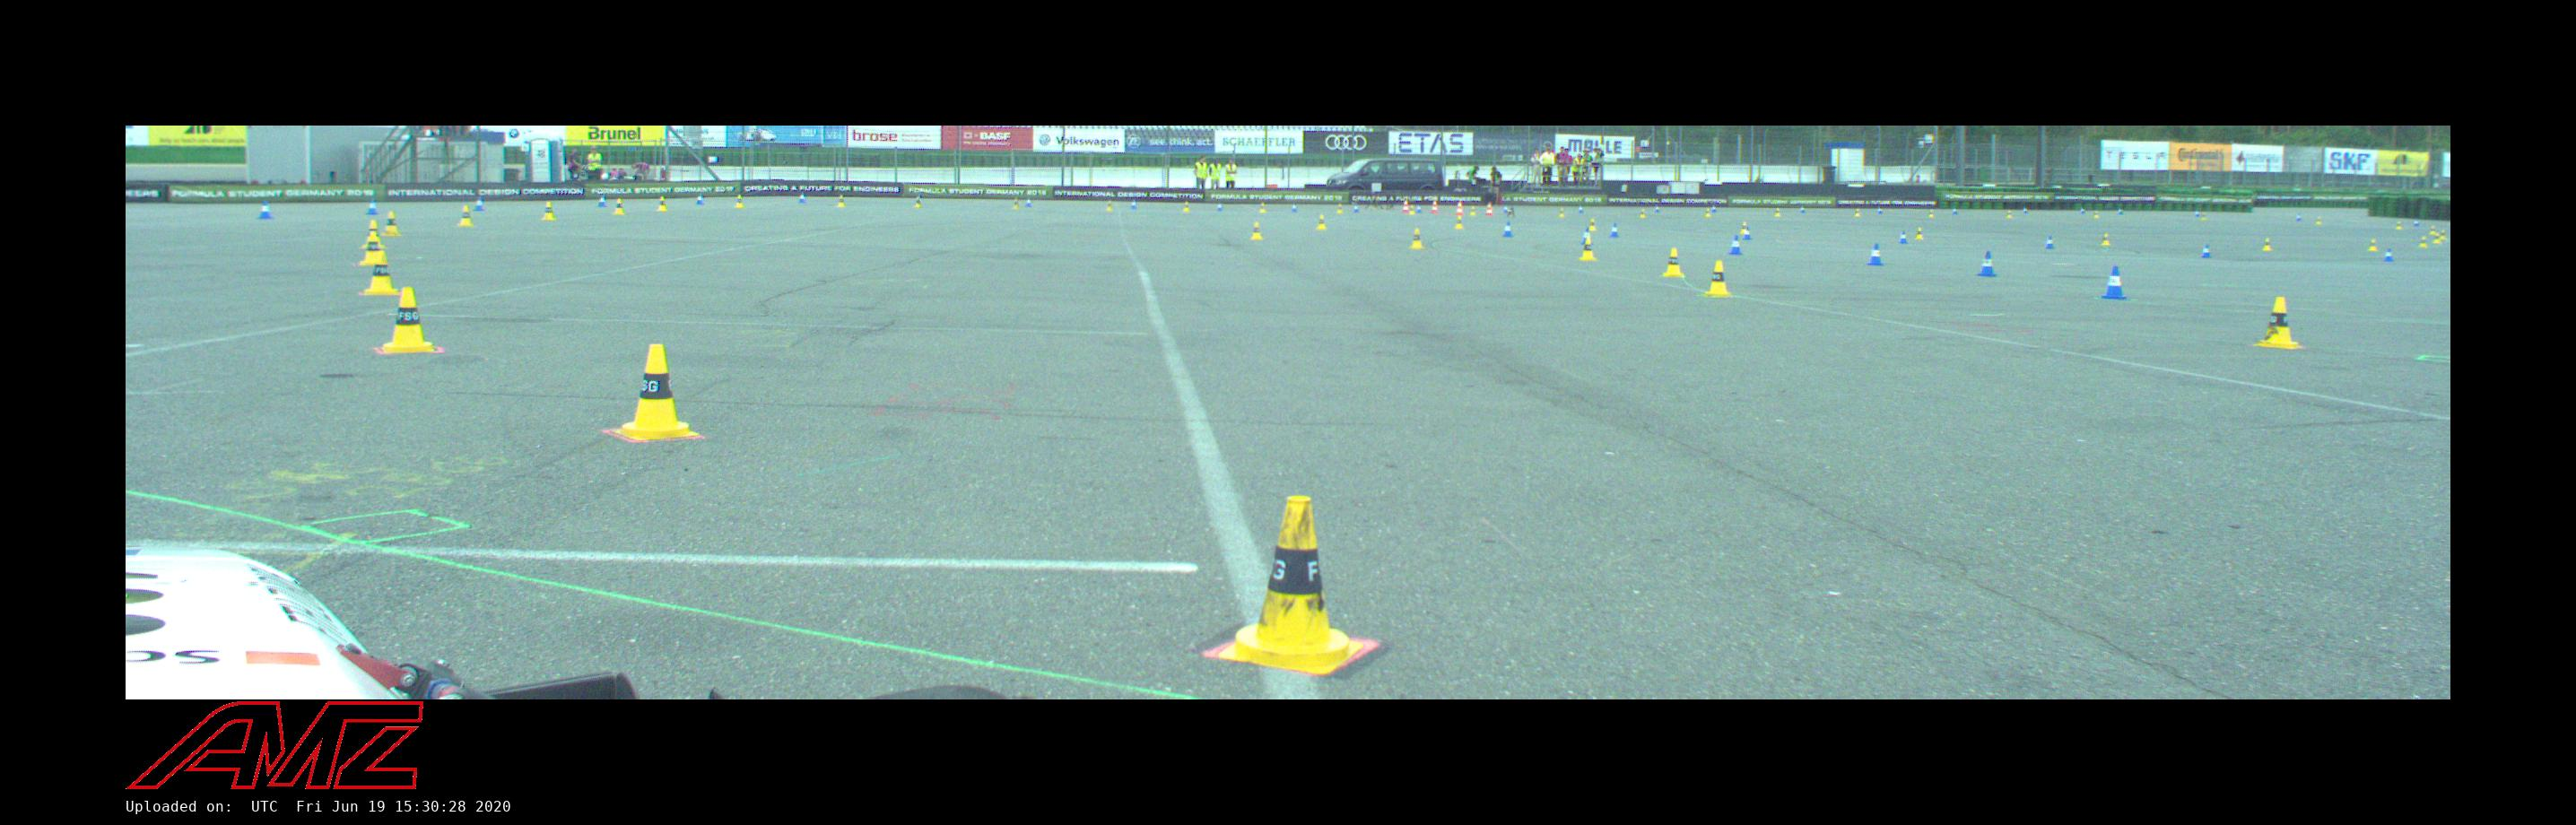blue_cone: (2101, 266, 2124, 299), (1976, 251, 1996, 276), (1868, 243, 1883, 266), (256, 200, 271, 219), (1730, 235, 1741, 253), (473, 196, 485, 210), (1502, 220, 1511, 235), (2201, 245, 2211, 258), (368, 199, 376, 214), (1580, 228, 1589, 243), (1610, 224, 1618, 237), (2045, 237, 2054, 250), (1743, 227, 1751, 240), (2384, 250, 2394, 260), (697, 192, 705, 204), (598, 196, 606, 207), (1901, 232, 1907, 243), (798, 192, 805, 202), (1130, 200, 1137, 209), (2193, 209, 2200, 217), (2022, 205, 2029, 214), (2297, 214, 2302, 222), (1027, 199, 1032, 207), (1217, 202, 1222, 210), (1712, 204, 1717, 212), (1291, 204, 1296, 212), (1656, 204, 1661, 212), (1354, 204, 1359, 212), (1577, 204, 1582, 212), (2080, 207, 2085, 214), (2415, 219, 2418, 227), (1801, 204, 1804, 212), (1418, 204, 1421, 212), (2118, 209, 2123, 214), (1953, 207, 1957, 214), (1878, 207, 1881, 214)
large_orange_cone: (1485, 202, 1493, 217), (1456, 200, 1464, 214), (1431, 200, 1439, 212), (1403, 200, 1410, 212)
yellow_cone: (1222, 498, 1362, 672), (616, 345, 698, 439), (381, 288, 435, 352), (2257, 297, 2302, 348), (365, 253, 398, 294), (1704, 261, 1730, 296), (1663, 248, 1682, 276), (363, 220, 383, 248), (361, 237, 378, 265), (381, 212, 399, 237), (1577, 238, 1597, 260), (1410, 228, 1423, 248), (1252, 222, 1263, 240), (542, 202, 554, 220), (460, 207, 471, 225), (613, 199, 624, 214), (1316, 215, 1326, 230), (657, 196, 667, 210), (2262, 238, 2272, 250), (1589, 219, 1597, 232), (736, 194, 744, 207), (1456, 215, 1464, 228), (2367, 240, 2377, 250), (1916, 228, 1924, 240), (1740, 222, 1746, 235), (915, 196, 922, 209), (2433, 233, 2441, 243), (838, 196, 844, 207), (2200, 212, 2208, 220), (2103, 233, 2109, 243), (2420, 237, 2427, 247), (1640, 209, 1646, 219), (1183, 202, 1189, 212), (1410, 204, 1416, 214), (1774, 209, 1781, 217), (1704, 209, 1710, 217), (2440, 230, 2446, 238), (1559, 209, 1566, 217), (1337, 204, 1342, 214), (1260, 202, 1265, 212), (1014, 199, 1019, 209), (2395, 222, 2402, 228), (2430, 227, 2436, 233), (2008, 210, 2012, 219), (2095, 210, 2100, 219), (1855, 209, 1860, 217), (1470, 207, 1475, 215), (2316, 217, 2321, 224), (1107, 200, 1111, 210), (1929, 210, 1934, 217)
